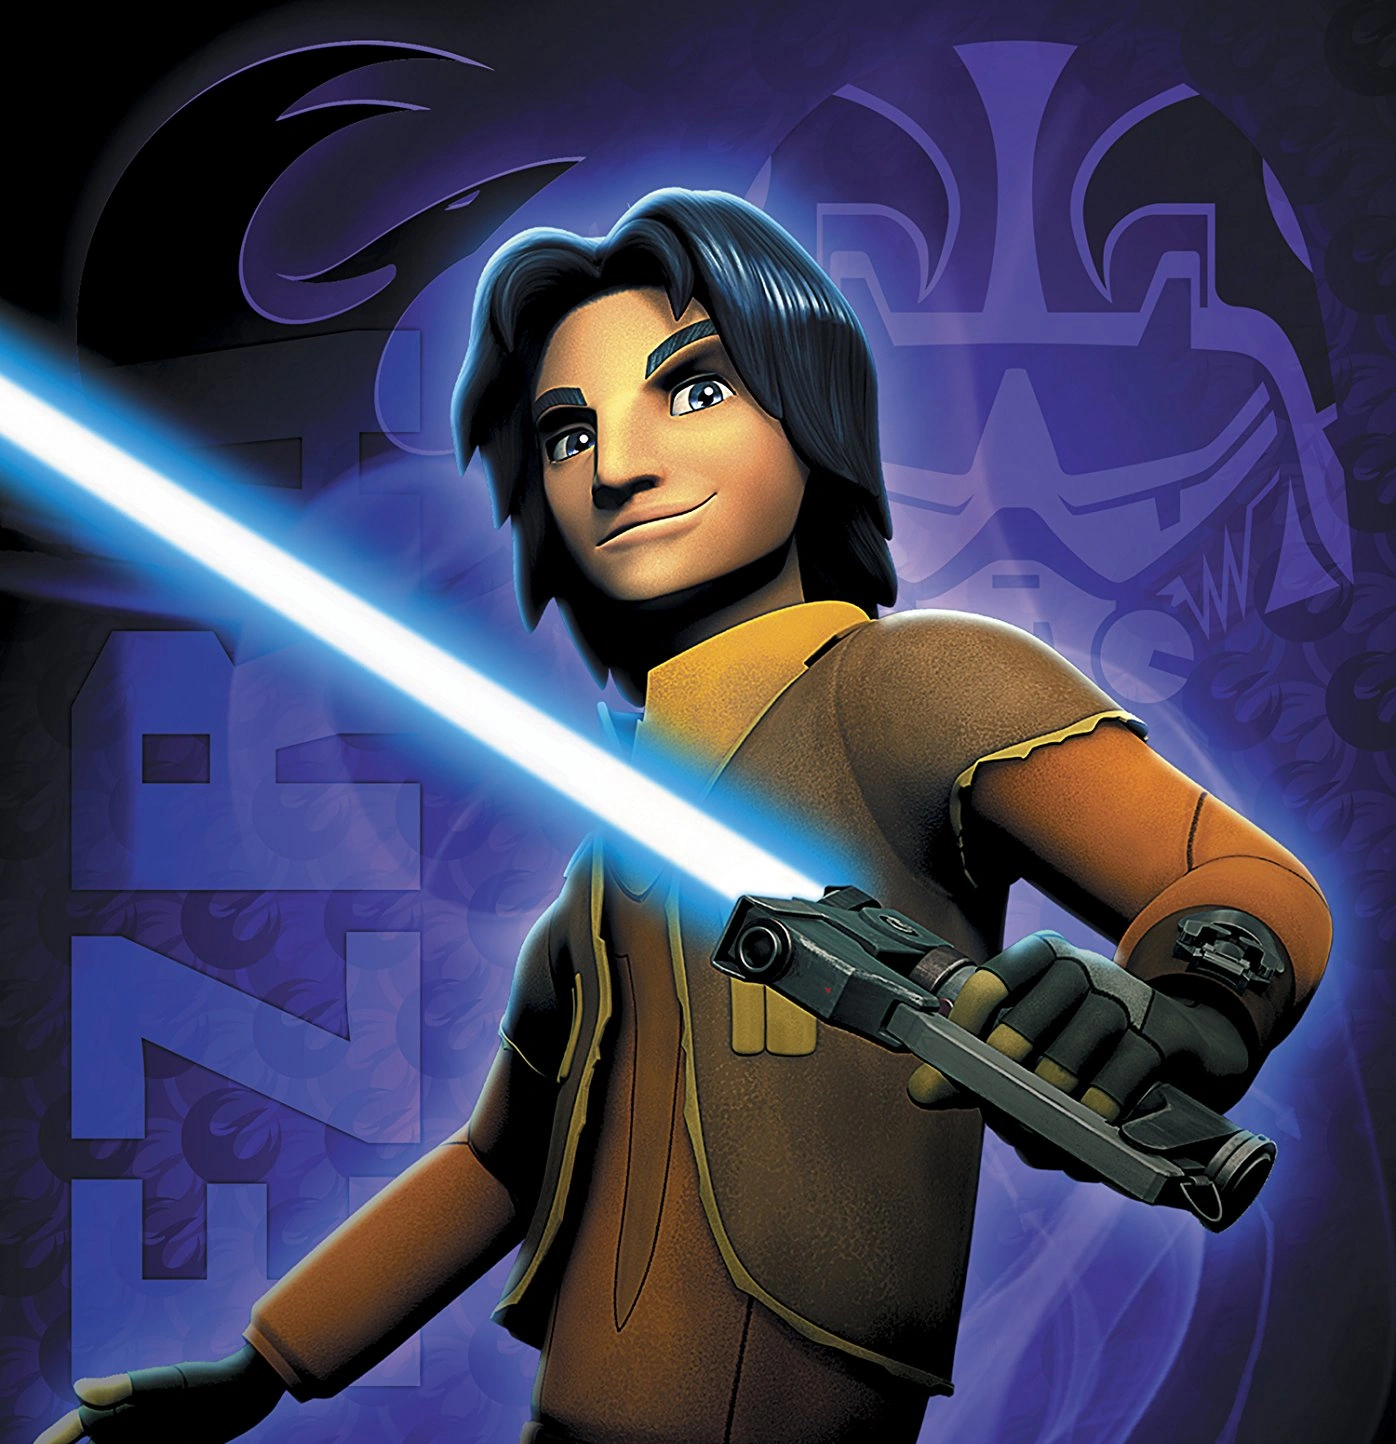Dalek: (0, 337, 1283, 1252)
